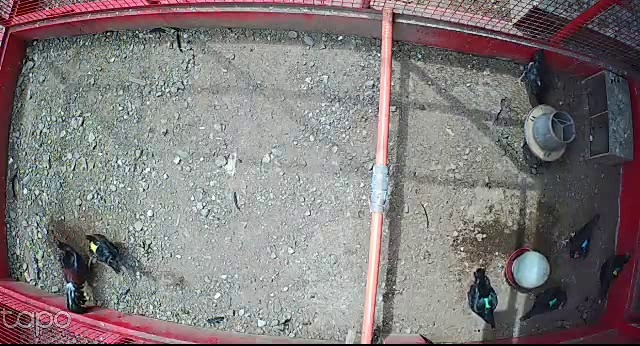Chicken: (463, 267, 505, 332), (555, 211, 602, 266), (594, 247, 631, 303), (519, 282, 566, 323), (516, 48, 550, 104), (81, 231, 122, 274)
Drinker: (503, 248, 550, 291)
Feeder: (523, 105, 576, 162)
Rooster: (49, 233, 97, 312)
Saddle_Color_Blue: (582, 239, 587, 249)
Saddle_Color_Green: (481, 296, 493, 308)
Saddle_Color_Yellow: (88, 239, 97, 252)
Saddle_Color_YellowGreen: (612, 268, 621, 276)
